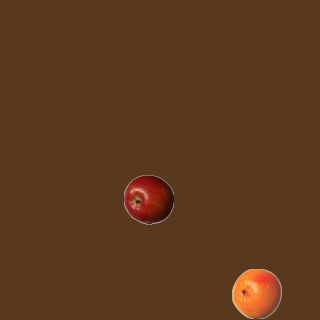Apple Braeburn: (123, 174, 173, 224)
Grapefruit Pink: (231, 268, 281, 318)
